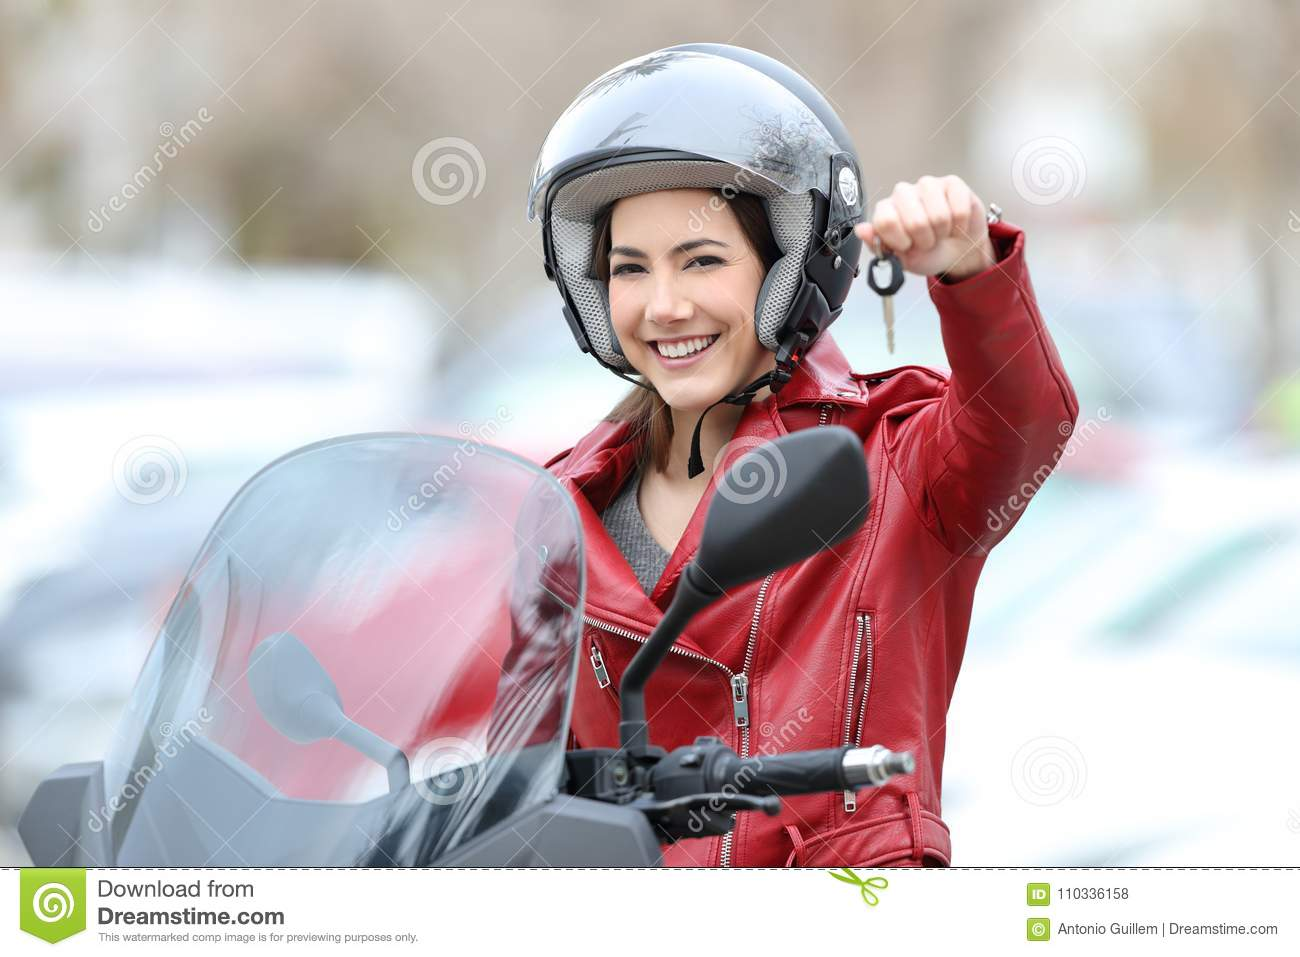helmet: (504, 70, 877, 357)
